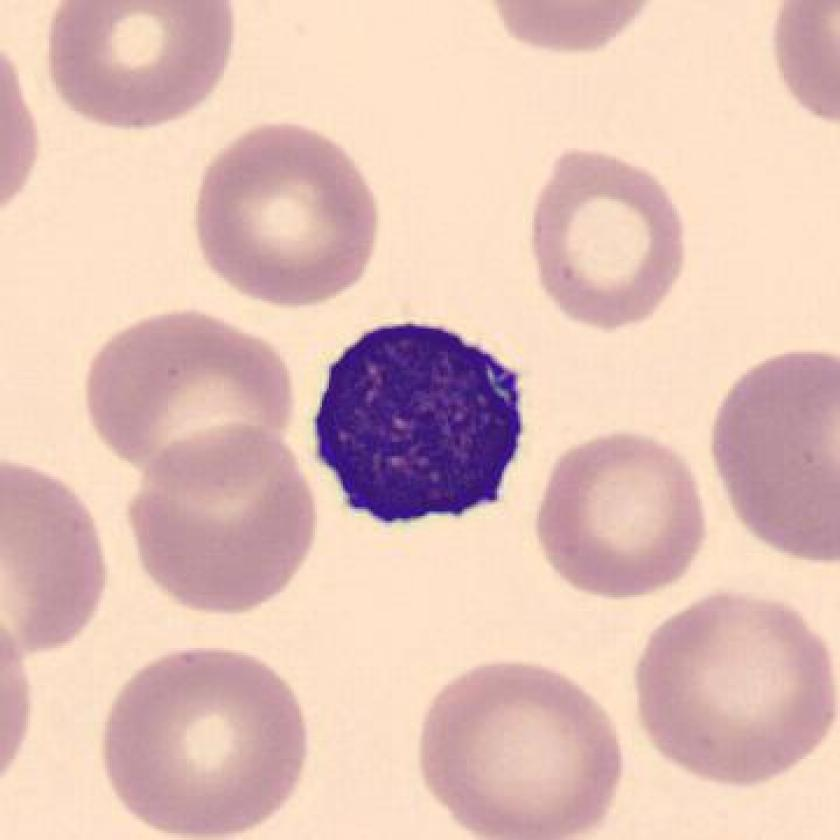lymphocyte: (300, 307, 538, 543)
